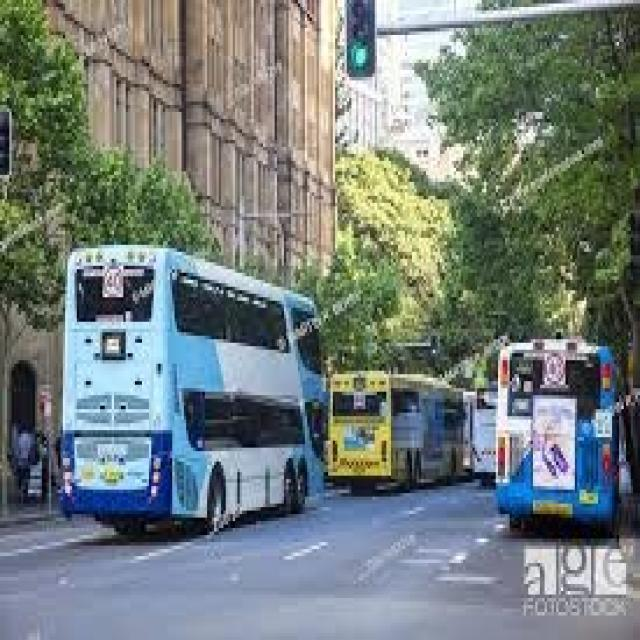bus: (54, 229, 339, 523), (486, 316, 634, 560), (331, 341, 469, 498)
